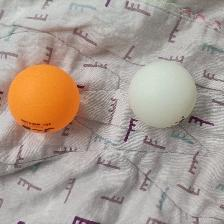WhiteBall: (127, 59, 197, 128)
YellowBall: (6, 63, 80, 134)
